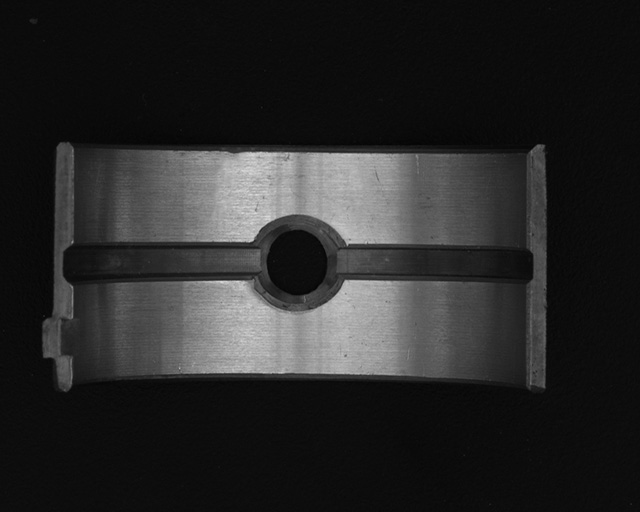gap: (328, 241, 535, 286), (64, 241, 263, 286)
hole: (255, 219, 341, 308)
nick: (413, 153, 422, 176)
